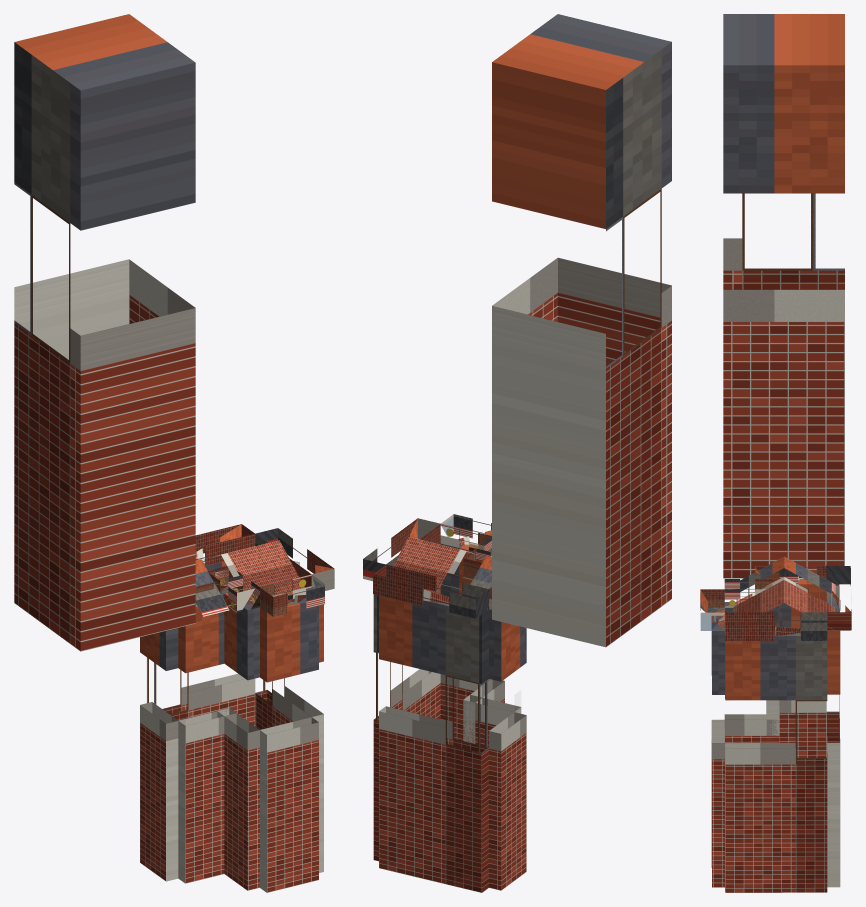
3 views of the same model, side by side, from view 1: azimuth 30°, elevation 25°; view 2: azimuth 150°, elevation 25°; view 3: azimuth 270°, elevation 25° (orthographic). The views are drawn at different scales.
Visible parts, largest first — view 1: 1107169982__chimney_0_xb, 1107169982__wall_2_xb, 1107169982__wall_4_xb, 1107169982__wall_3_xb, 1107169982__wall_5_xb, 1107169982_roof_-1_xb, 1107169982__wall_0_xb, 1107169982__wall_1_xb, 1107169982__cornice_0, 1107169982__cornice_1, 1107169982__cornice_2, 1107169982__cornice_3; view 2: 1107169982__chimney_0_xb, 1107169982__wall_0_xb, 1107169982__wall_5_xb, 1107169982__wall_1_xb, 1107169982__cornice_0, 1107169982_roof_1_xb, 1107169982__wall_2_xb, 1107169982__cornice_1, 1107169982__wall_4_xb, 1107169982__cornice_2, 1107169982__wall_3_xb; view 3: 1107169982__chimney_0_xb, 1107169982__wall_1_xb, 1107169982__wall_0_xb, 1107169982__wall_2_xb, 1107169982__wall_5_xb, 1107169982__cornice_1, 1107169982_roof_1_xb, 1107169982__wall_3_xb, 1107169982_roof_-1_xb, 1107169982__cornice_0, 1107169982__cornice_2, 1107169982__cornice_3 (+2 smaller).
Part boxes in pixels (<box>): 1107169982__chimney_0_xb: <box>14,14,195,651</box>; 1107169982__wall_2_xb: <box>260,598,318,892</box>; 1107169982__wall_4_xb: <box>178,586,236,883</box>; 1107169982__wall_3_xb: <box>217,586,259,890</box>; 1107169982__wall_5_xb: <box>140,628,178,881</box>; 1107169982_roof_-1_xb: <box>195,540,304,616</box>; 1107169982__wall_0_xb: <box>147,559,255,726</box>; 1107169982__wall_1_xb: <box>255,595,323,872</box>; 1107169982__cornice_0: <box>195,524,255,565</box>; 1107169982__cornice_1: <box>255,528,334,590</box>; 1107169982__cornice_2: <box>260,574,324,616</box>; 1107169982__cornice_3: <box>208,566,259,612</box>; 1107169982__chimney_0_xb: <box>492,14,671,647</box>; 1107169982__wall_0_xb: <box>379,595,488,892</box>; 1107169982__wall_5_xb: <box>489,609,526,890</box>; 1107169982__wall_1_xb: <box>373,544,440,861</box>; 1107169982__cornice_0: <box>373,564,488,618</box>; 1107169982_roof_1_xb: <box>393,537,491,593</box>; 1107169982__wall_2_xb: <box>440,543,490,740</box>; 1107169982__cornice_1: <box>363,518,440,581</box>; 1107169982__wall_4_xb: <box>463,578,521,747</box>; 1107169982__cornice_2: <box>440,514,491,555</box>; 1107169982__wall_3_xb: <box>463,578,504,743</box>; 1107169982__chimney_0_xb: <box>723,14,844,578</box>; 1107169982__wall_1_xb: <box>725,633,827,892</box>; 1107169982__wall_0_xb: <box>826,584,840,887</box>; 1107169982__wall_2_xb: <box>711,609,724,887</box>; 1107169982__wall_5_xb: <box>779,579,826,757</box>; 1107169982__cornice_1: <box>725,612,827,640</box>; 1107169982_roof_1_xb: <box>784,557,835,630</box>; 1107169982__wall_3_xb: <box>724,602,779,742</box>; 1107169982_roof_-1_xb: <box>733,557,784,622</box>; 1107169982__cornice_0: <box>826,566,851,630</box>; 1107169982__cornice_2: <box>700,589,724,630</box>; 1107169982__cornice_3: <box>724,579,779,607</box>.
Bounding box in the file's own units: 0.3328 × 1.05 × 0.1867.
1 material, 1 textured.
